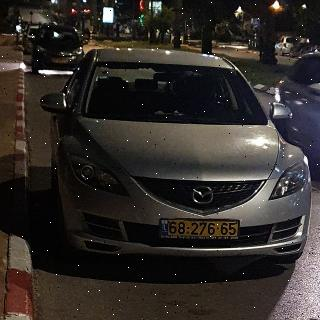LicensePlate: (170, 221, 239, 236)
